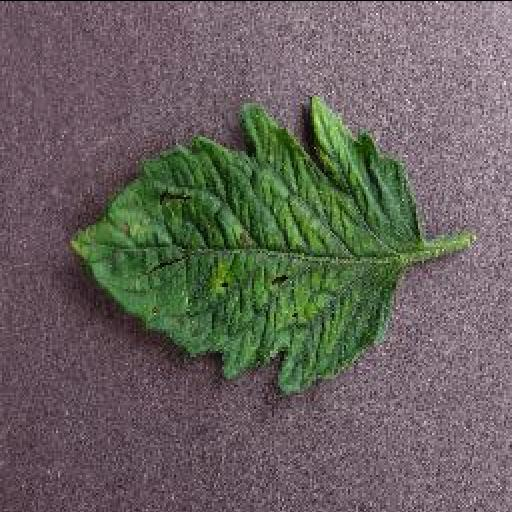Mosaic Virus: (66, 93, 422, 395)
